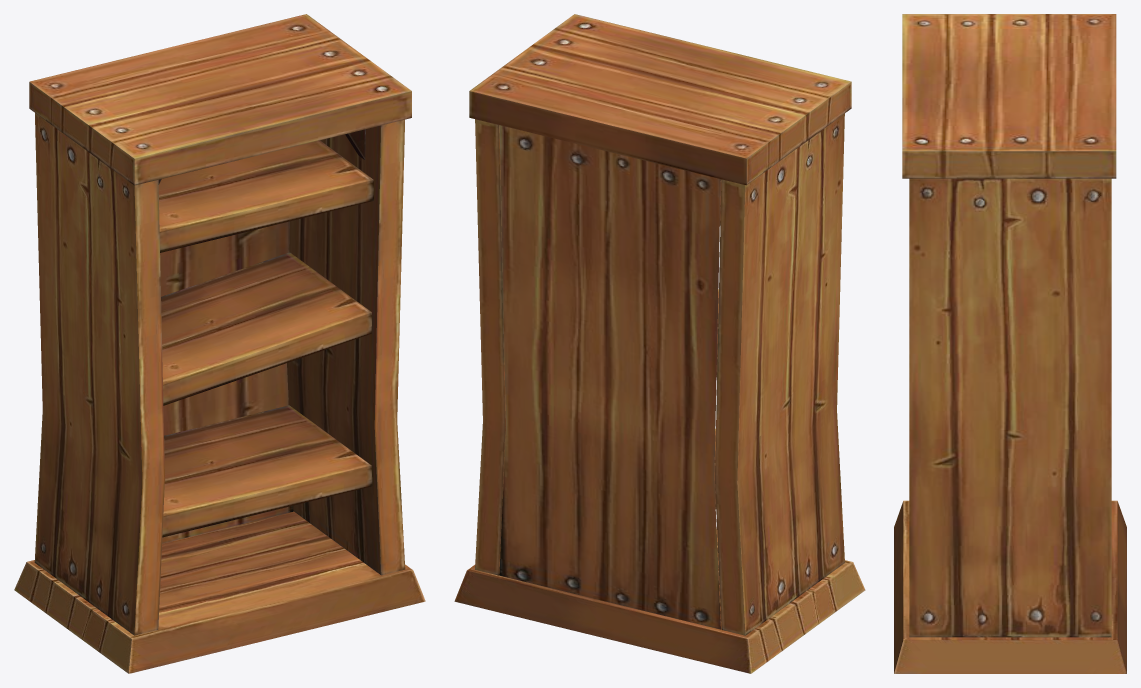
File: SM_cupboard_03.gltf
3 renders of one model, left to right at view 1: azimuth 30°, elevation 25°; view 2: azimuth 150°, elevation 25°; view 3: azimuth 270°, elevation 25°, orthographic.
Visible parts, largest first — view 1: SM_cupboard_03; view 2: SM_cupboard_03; view 3: SM_cupboard_03.
Part boxes in pixels (x1,y1,x2,y2): SM_cupboard_03: [14, 14, 425, 673]; SM_cupboard_03: [454, 14, 865, 673]; SM_cupboard_03: [894, 14, 1126, 673].
Size of the model in its own units: 0.9993 by 1.64 by 0.6677.
Materials: 1 (1 with a texture image).
